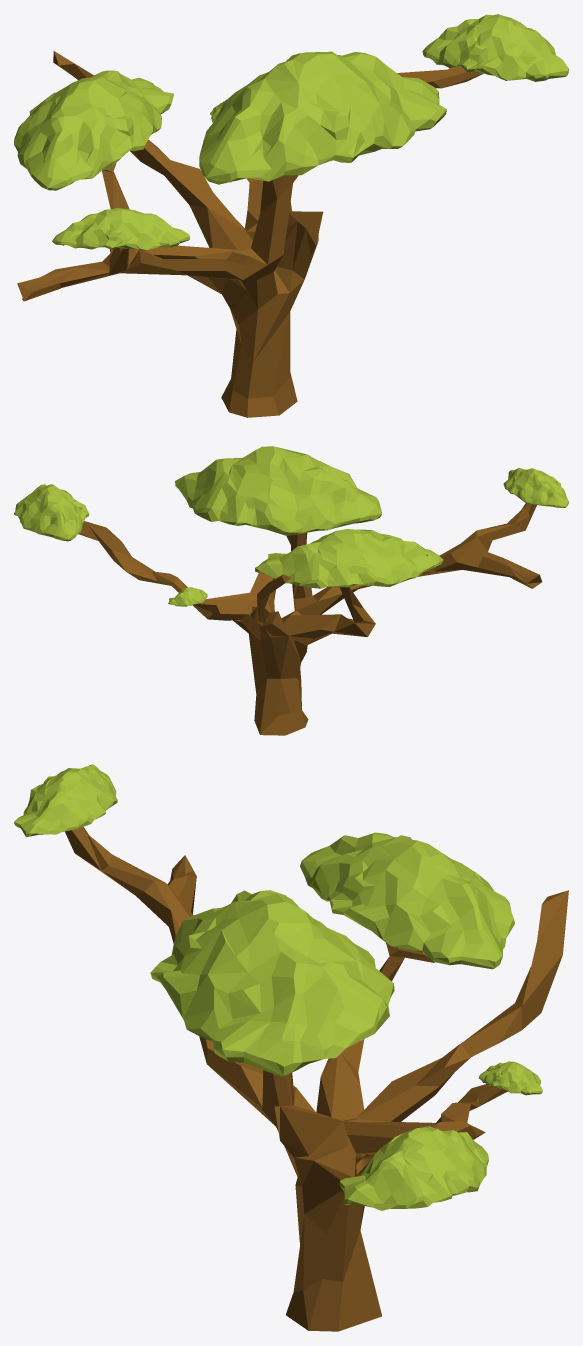
The model's file is Acacia_fase1.fbx.
3 renders of one model, top to bottom at view 1: azimuth 30°, elevation 25°; view 2: azimuth 150°, elevation 25°; view 3: azimuth 270°, elevation 25°, orthographic. The views are drawn at different scales.
Visible parts, largest first — view 1: node-0.001; view 2: node-0.001; view 3: node-0.001.
Boxes of the visible parts, x1,y1,x2,y2 form: node-0.001: [14, 14, 568, 417]; node-0.001: [14, 446, 568, 735]; node-0.001: [14, 764, 568, 1331].
Bounding box in the file's own units: 149 × 80.93 × 95.01.
